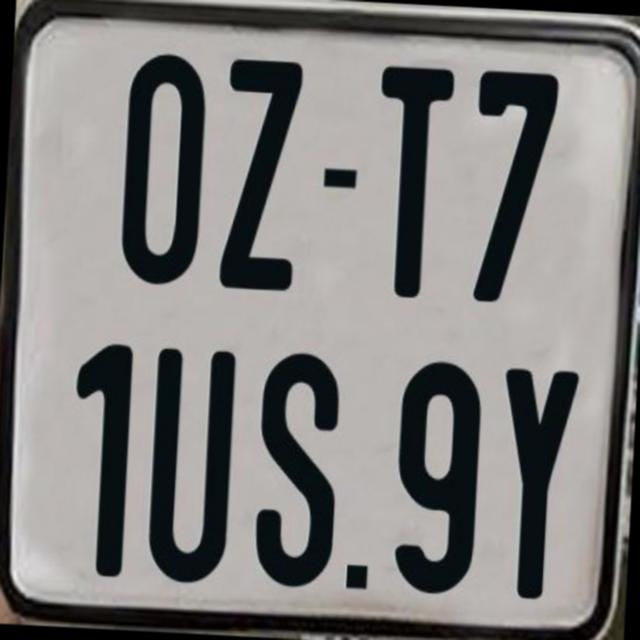0: (117, 48, 215, 290)
1: (63, 340, 133, 578)
7: (465, 66, 563, 306)
9: (388, 356, 482, 594)
S: (250, 346, 342, 585)
T: (368, 62, 455, 301)
U: (146, 347, 244, 589)
Y: (494, 364, 578, 606)
Z: (216, 58, 306, 300)
